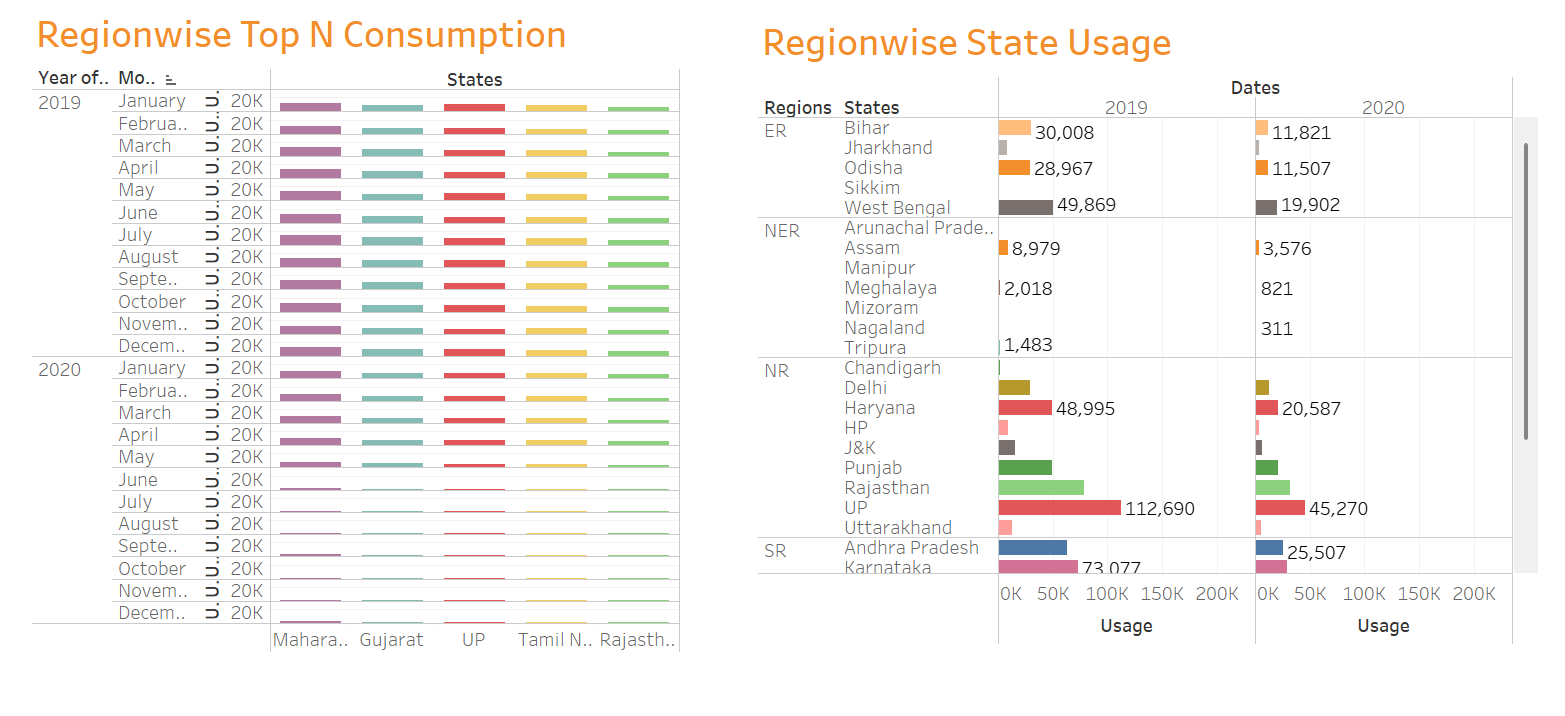

The dashboard page shown, as its layout file describes it:
{"tool":"tableau","page":{"name":"Dashboard 3","canvas":[1000,1000],"units":"permille","ordinal":2},"visuals":[{"type":"worksheet","title":" Regionwise Top N Consumption","mark":"Automatic","rows":["Dates","Dates","Usage"],"cols":["States"],"box":[27,13.4,403.9,870]},{"type":"worksheet","title":" Regionwise State Usage","mark":"Automatic","rows":["Regions","States"],"cols":["Dates","Usage"],"box":[479.6,24.1,486.8,848.5]}]}

Visuals, with their boxes on the dashboard's canvas, which has no fixed pixel size, in thousandths of its width and height (x1, y1, x2, y2). These are canvas units, not pixel positions in the 1565x716 screenshot, which may show the page scaled, cropped or inside an application window:
" Regionwise Top N Consumption" worksheet: {"left": 27, "top": 13, "right": 431, "bottom": 883}
" Regionwise State Usage" worksheet: {"left": 480, "top": 24, "right": 966, "bottom": 873}
